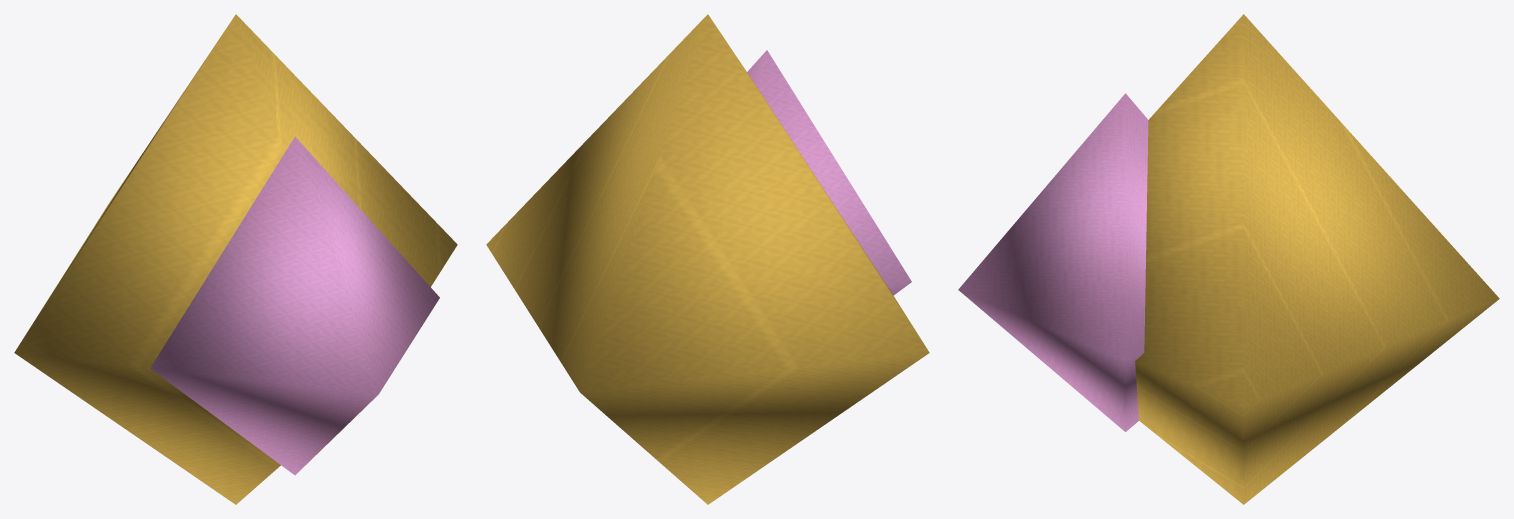
File: false_king_crown_emblem.obj
3 views of the same model, side by side, from view 1: azimuth 30°, elevation 25°; view 2: azimuth 150°, elevation 25°; view 3: azimuth 270°, elevation 25° (orthographic).
Parts seen in each view (by area): view 1: CrownEmblem; view 2: CrownEmblem; view 3: CrownEmblem.
Boxes of the visible parts, x1,y1,x2,y2 form: CrownEmblem: [14, 14, 457, 504]; CrownEmblem: [486, 14, 929, 504]; CrownEmblem: [958, 14, 1499, 504].
Size of the model in its own units: 1.04 by 1.1 by 1.1.
2 materials, 2 textured.
